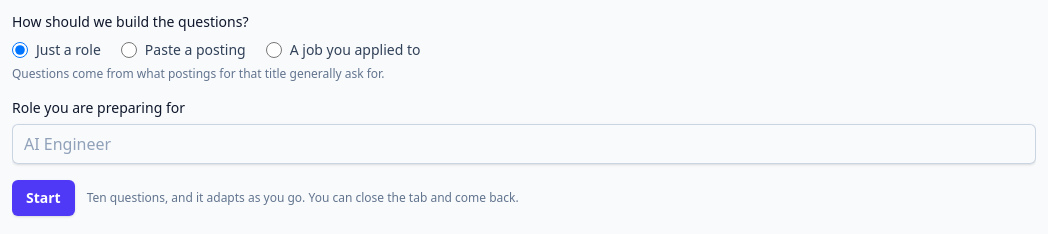
Scenario: StartInterview › picking a job you applied to › says there is nothing to pick yet
Step 1. Click the radio button labelled "A job you applied to" → (274, 50), box [266,42,282,58]
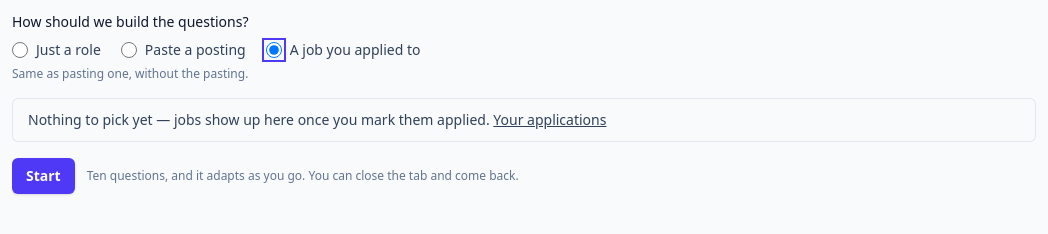
Expected: the text "Nothing to pick yet" is shown, [28,110,490,129]
